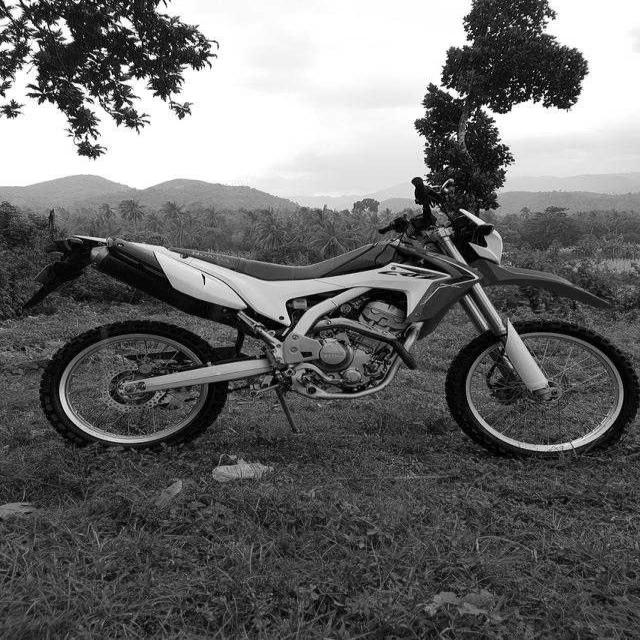Motorcycle: (27, 210, 638, 456)
